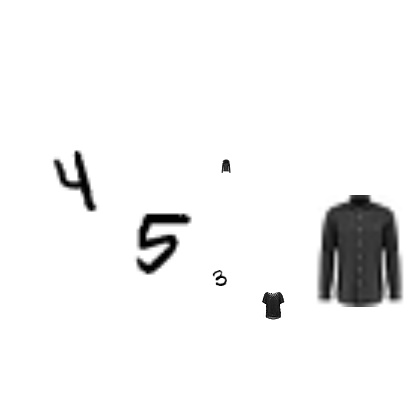3: (209, 267, 231, 289)
4: (33, 136, 117, 220)
5: (116, 196, 200, 280)
Coat: (219, 159, 233, 173)
Shirt: (302, 195, 414, 307), (259, 292, 287, 320)
